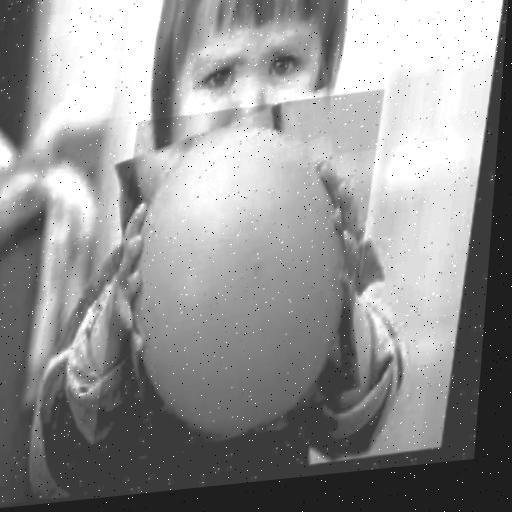balloon: (97, 91, 387, 464)
